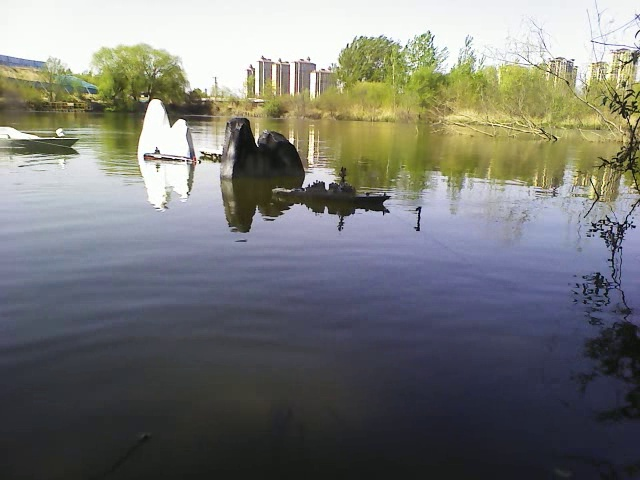boat: (2, 120, 81, 150)
iceberg: (134, 96, 202, 158)
rock: (217, 114, 308, 178)
submarine: (141, 144, 208, 163)
warship: (273, 164, 396, 210)
